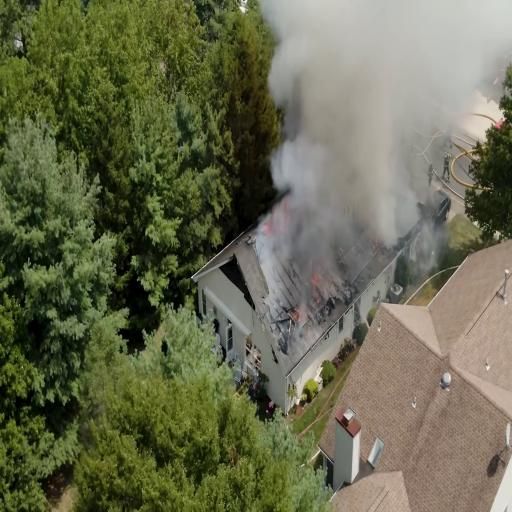smoke: (299, 0, 512, 68), (300, 50, 394, 200)
